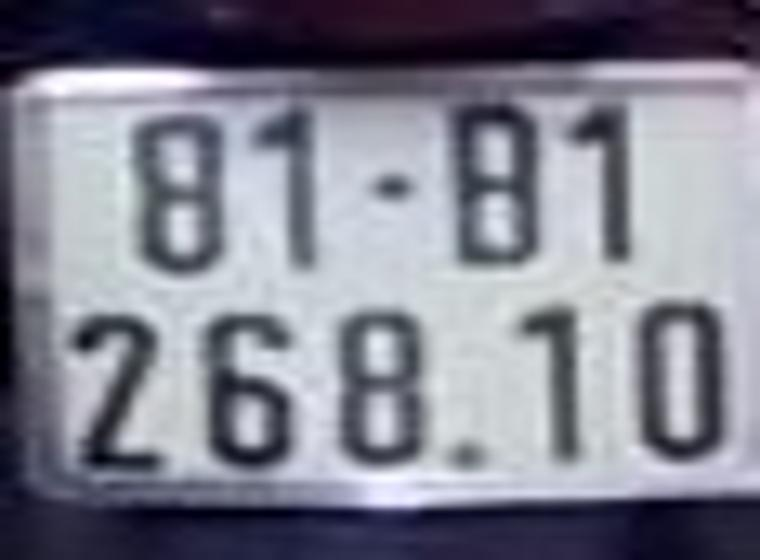-: (371, 171, 414, 202)
.: (448, 437, 486, 474)
0: (632, 299, 726, 460)
1: (254, 105, 326, 279), (566, 98, 637, 270), (518, 300, 586, 466)
2: (72, 308, 169, 472)
6: (201, 312, 295, 473)
8: (131, 105, 231, 277), (339, 309, 427, 467)
B: (448, 99, 540, 269)
